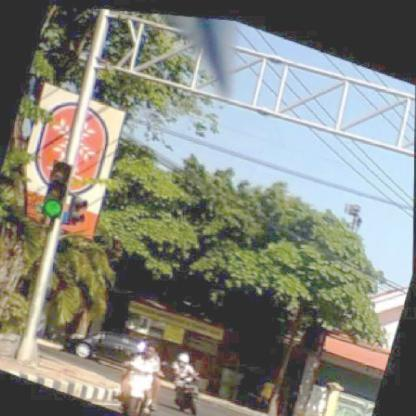Traffic Light -Green-: (38, 156, 75, 221)
